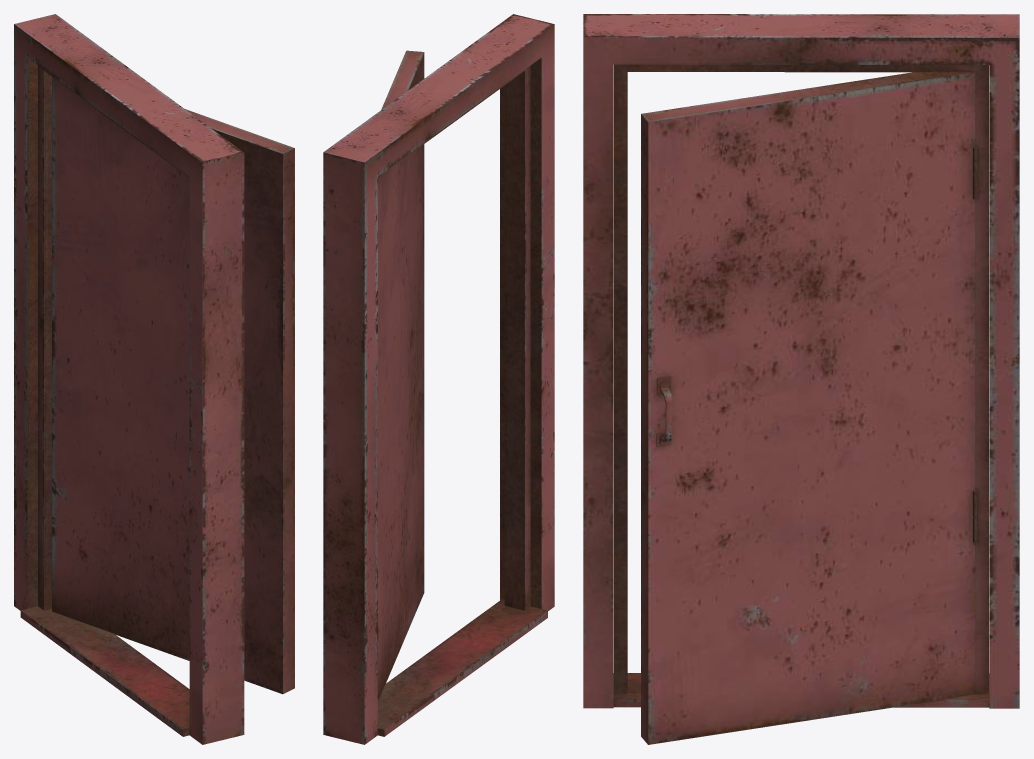
The model's file is redmetaldoor.glb.
3 views of the same model, side by side, from view 1: azimuth 30°, elevation 25°; view 2: azimuth 150°, elevation 25°; view 3: azimuth 270°, elevation 25° (orthographic). The views are drawn at different scales.
Parts seen in each view (by area): view 1: RedMetalDoor; view 2: RedMetalDoor; view 3: RedMetalDoor.
Part boxes in pixels (x1,y1,x2,y2): RedMetalDoor: [14, 14, 294, 744]; RedMetalDoor: [323, 14, 554, 744]; RedMetalDoor: [583, 14, 1019, 744].
Bounding box in the file's own units: 0.8996 × 3.72 × 2.19.
Materials: 1 (1 with a texture image).
